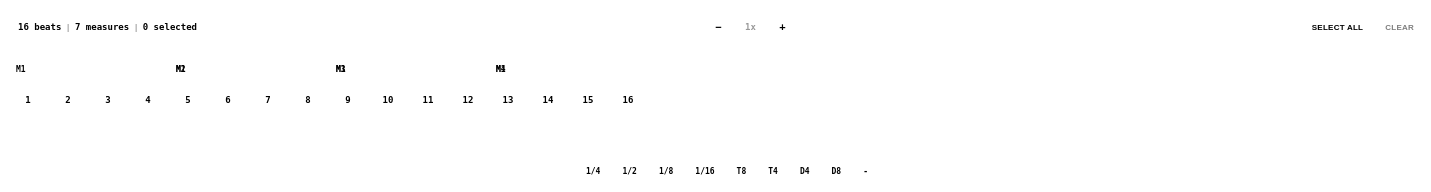
Test: BeatSubdivisionGrid › Zoom Controls › increases zoom when zoom in button is clicked
Step 1. Click the button named "Zoom in" → {"x": 782, "y": 27}, box [770, 16, 794, 38]
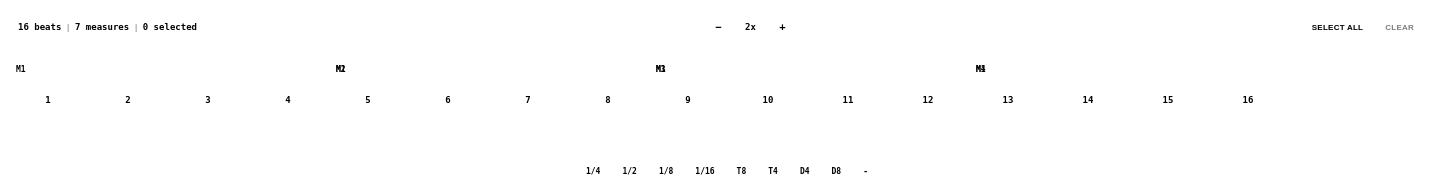
Expected: the button named "Reset to 1x" reads "2x", [732, 16, 768, 38]
